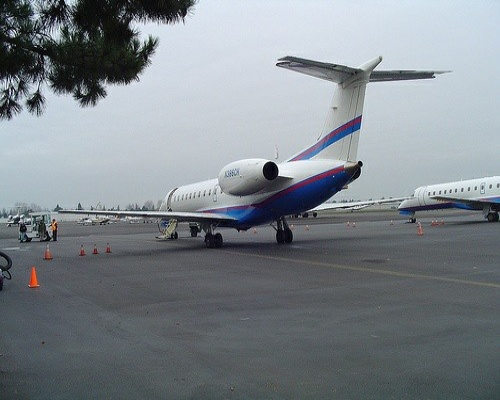plane: (54, 46, 452, 253), (396, 177, 497, 221)
